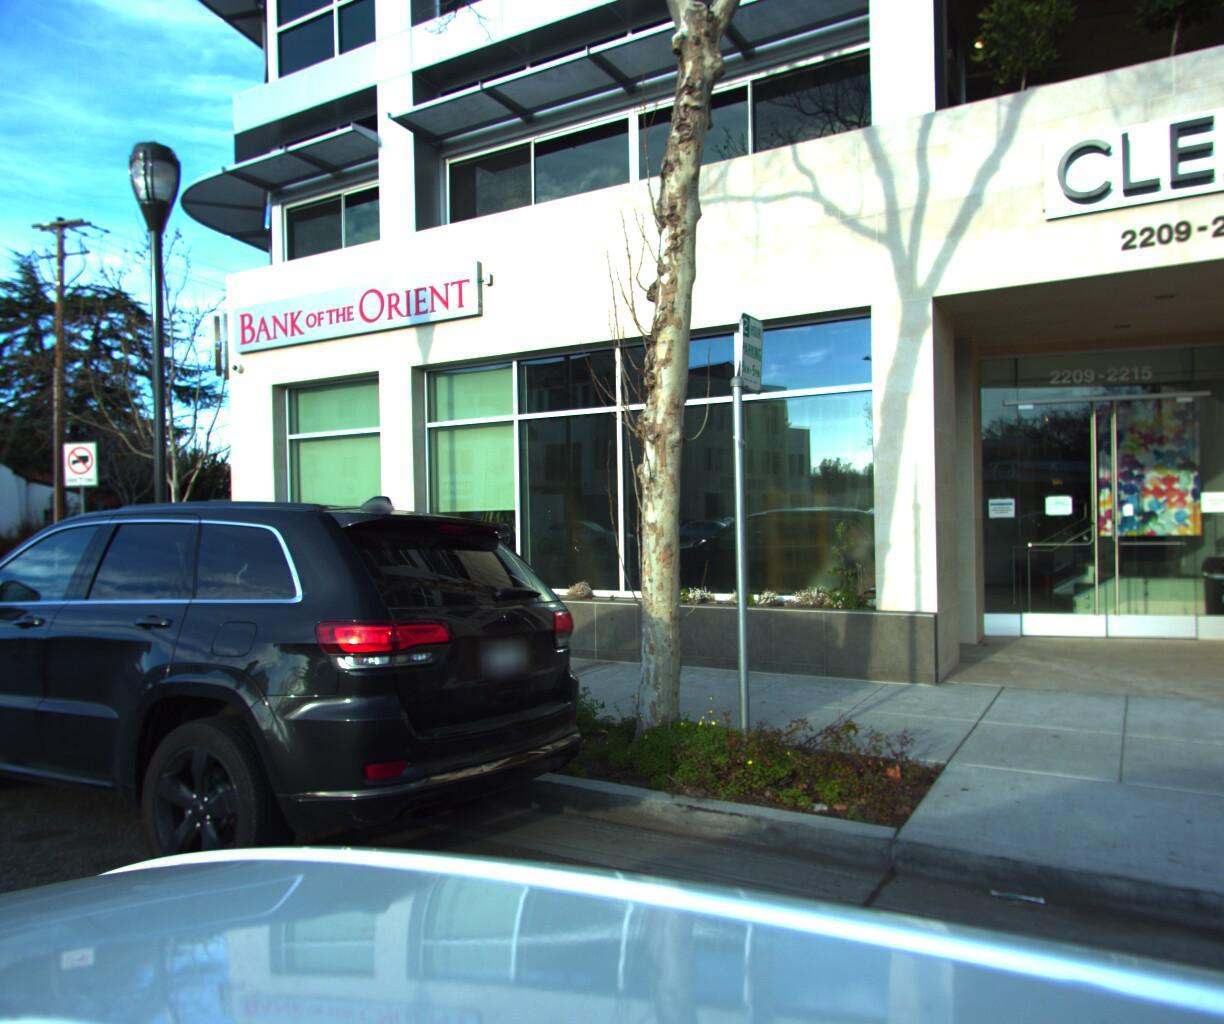car: (0, 484, 636, 1001)
